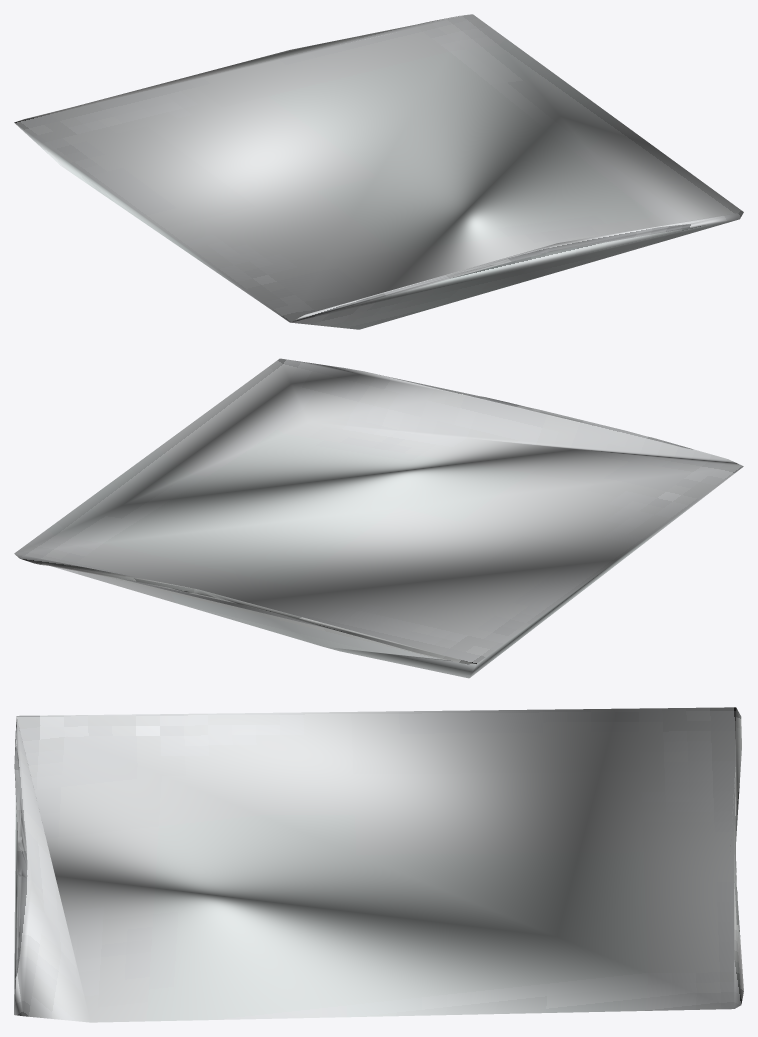
Rendered from Threshold_Dinner_Plate_Square_Rim_White_Porcelain-low.glb.
The picture shows the model from 3 angles, top to bottom: view 1: azimuth 30°, elevation 25°; view 2: azimuth 150°, elevation 25°; view 3: azimuth 270°, elevation 25°; orthographic projection. The views are drawn at different scales.
Parts seen in each view (by area): view 1: Threshold_Dinner_Plate_Square_Rim_White_Porcelain; view 2: Threshold_Dinner_Plate_Square_Rim_White_Porcelain; view 3: Threshold_Dinner_Plate_Square_Rim_White_Porcelain.
Part boxes in pixels (left/top/right/bottom): Threshold_Dinner_Plate_Square_Rim_White_Porcelain: left=14, top=14, right=743, bottom=329; Threshold_Dinner_Plate_Square_Rim_White_Porcelain: left=14, top=358, right=743, bottom=678; Threshold_Dinner_Plate_Square_Rim_White_Porcelain: left=14, top=707, right=743, bottom=1022.
Size of the model in its own units: 0.2648 by 0.0351 by 0.2719.
Materials: 1 (1 with a texture image).
